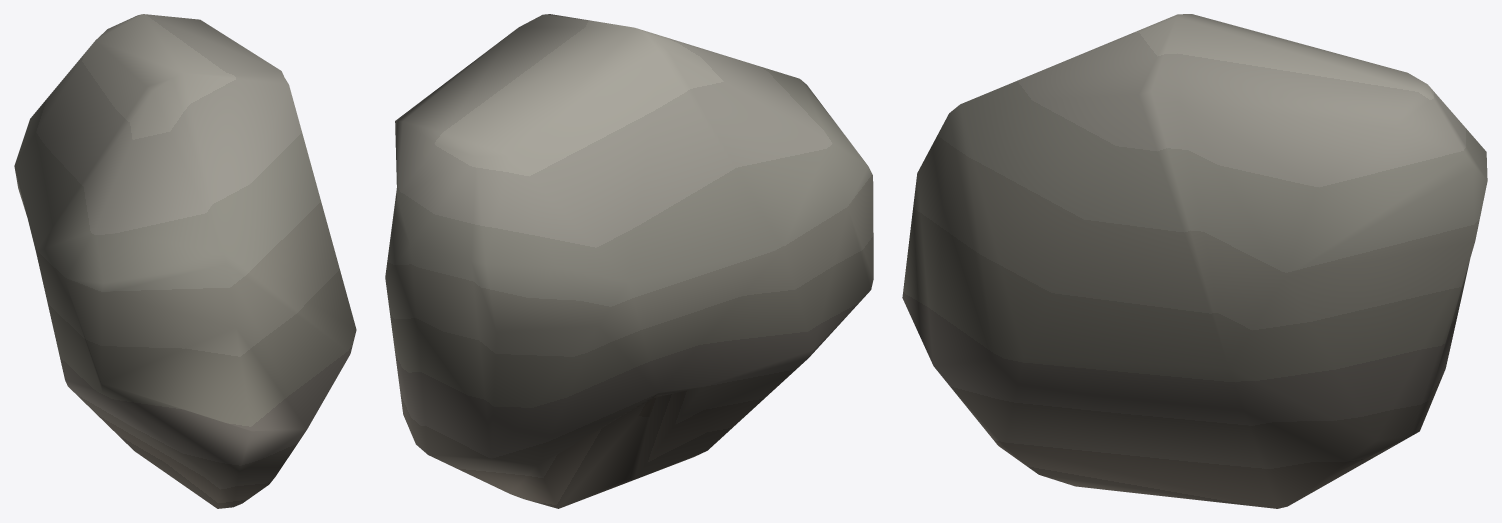
Rendered from DL_Obj_Level5_MineRock1.fbx.
The picture shows the model from 3 angles, left to right: view 1: azimuth 30°, elevation 25°; view 2: azimuth 150°, elevation 25°; view 3: azimuth 270°, elevation 25°; orthographic projection. The views are drawn at different scales.
Visible parts, largest first — view 1: Level5_MineRock01; view 2: Level5_MineRock01; view 3: Level5_MineRock01.
Part boxes in pixels (<box>): Level5_MineRock01: <box>14,14,356,508</box>; Level5_MineRock01: <box>385,14,873,508</box>; Level5_MineRock01: <box>902,14,1487,508</box>.
Bounding box in the file's own units: 74.18 × 91.38 × 102.
